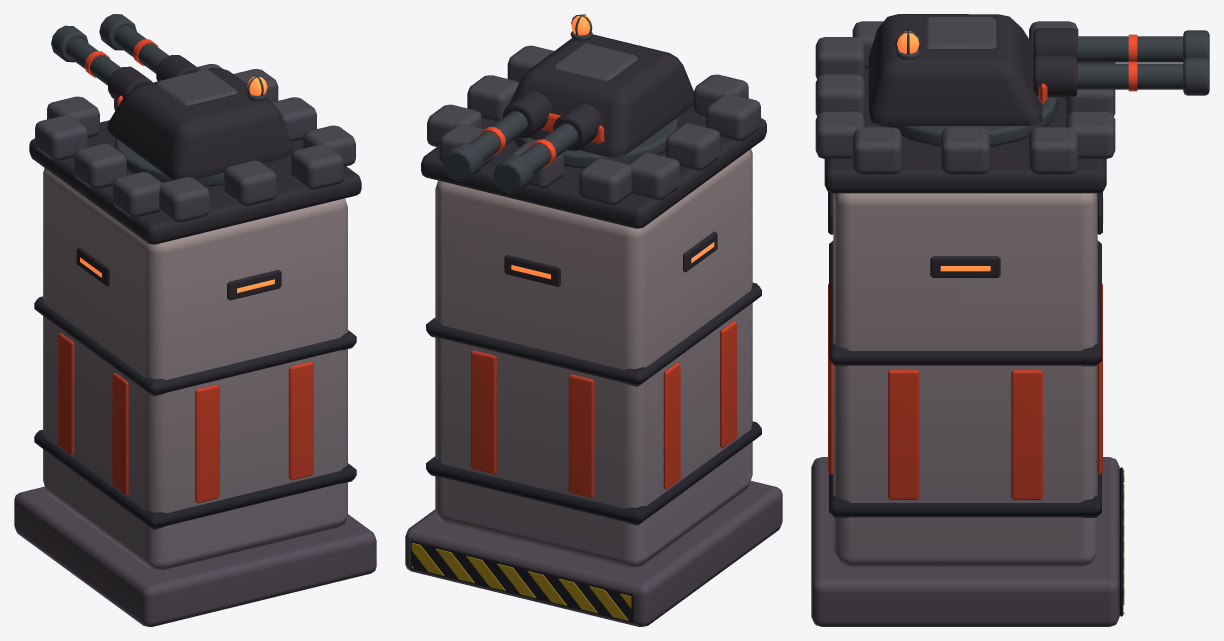
The model's file is gate-tower.glb.
3 views of the same model, side by side, from view 1: azimuth 30°, elevation 25°; view 2: azimuth 150°, elevation 25°; view 3: azimuth 270°, elevation 25° (orthographic). The views are drawn at different scales.
Visible parts, largest first — view 1: gate-tower Bunker concrete, gate-tower Bunker footing, gate-tower Ashen charcoal, gate-tower Ashen slate, gate-tower Turret Ashen charcoal, gate-tower Ember paint, gate-tower Turret Gunmetal, gate-tower Turret Ashen slate; view 2: gate-tower Bunker concrete, gate-tower Ashen charcoal, gate-tower Bunker footing, gate-tower Ashen slate, gate-tower Turret Ashen charcoal, gate-tower Ember paint, gate-tower Turret Gunmetal, gate-tower Hazard yellow, gate-tower Turret Ashen slate, gate-tower Turret Ember paint; view 3: gate-tower Bunker concrete, gate-tower Bunker footing, gate-tower Ashen charcoal, gate-tower Turret Ashen charcoal, gate-tower Ashen slate, gate-tower Ember paint, gate-tower Turret Gunmetal, gate-tower Turret Ashen slate, gate-tower Turret Ember paint.
Boxes of the visible parts, x1,y1,x2,y2 form: gate-tower Bunker concrete: (43, 168, 347, 569); gate-tower Bunker footing: (14, 486, 376, 626); gate-tower Ashen charcoal: (29, 120, 361, 529); gate-tower Ashen slate: (35, 64, 355, 222); gate-tower Turret Ashen charcoal: (107, 55, 292, 179); gate-tower Ember paint: (58, 333, 313, 503); gate-tower Turret Gunmetal: (51, 14, 271, 186); gate-tower Turret Ashen slate: (157, 69, 237, 106); gate-tower Bunker concrete: (435, 149, 752, 567); gate-tower Ashen charcoal: (411, 106, 766, 622); gate-tower Bunker footing: (405, 481, 782, 626); gate-tower Ashen slate: (427, 45, 760, 205); gate-tower Turret Ashen charcoal: (503, 34, 694, 157); gate-tower Ember paint: (471, 321, 736, 497); gate-tower Turret Gunmetal: (443, 14, 678, 193); gate-tower Hazard yellow: (411, 543, 631, 620); gate-tower Turret Ashen slate: (554, 43, 637, 81); gate-tower Turret Ember paint: (479, 113, 604, 166); gate-tower Bunker concrete: (833, 193, 1097, 566); gate-tower Bunker footing: (811, 457, 1119, 626); gate-tower Ashen charcoal: (824, 69, 1123, 616); gate-tower Turret Ashen charcoal: (868, 14, 1077, 126); gate-tower Ashen slate: (815, 21, 1115, 174); gate-tower Ember paint: (828, 284, 1102, 499); gate-tower Turret Gunmetal: (885, 30, 1209, 146); gate-tower Turret Ashen slate: (926, 17, 996, 49); gate-tower Turret Ember paint: (1038, 34, 1137, 103).
Size of the model in its own units: 3.5 by 6.95 by 4.52.
Materials: 8 (7 with a texture image).
